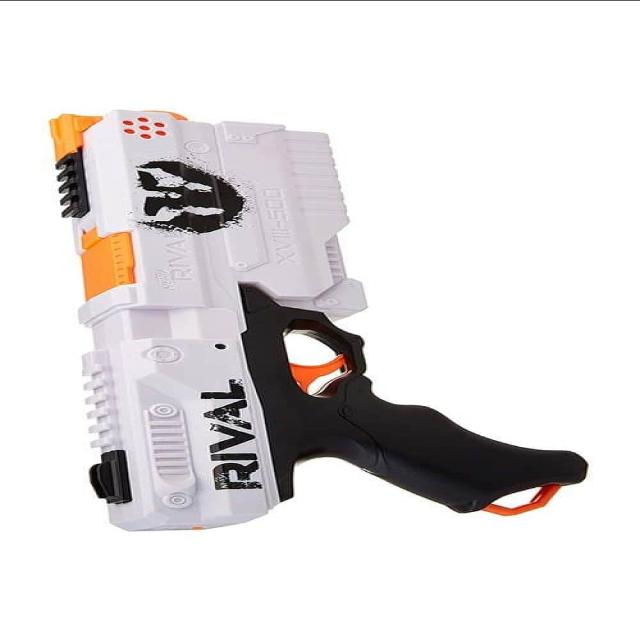Nerf gun: (38, 103, 604, 537)
